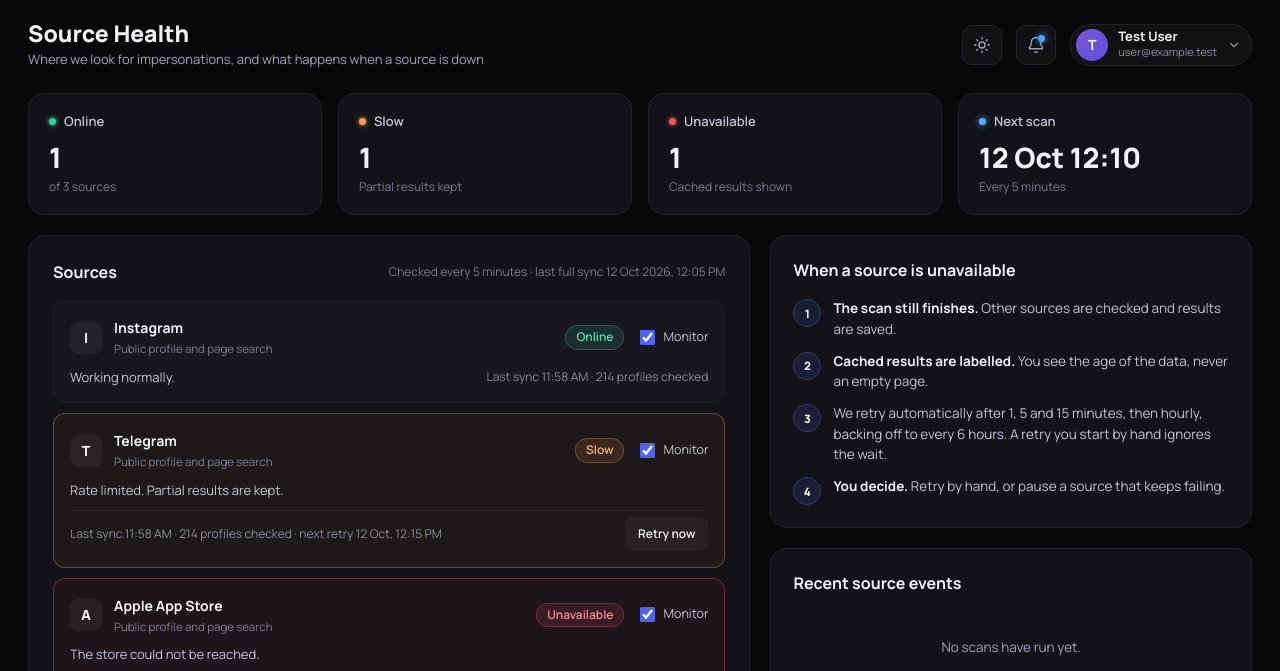
Test: SourceHealthPage › monitor toggle is optimistic and rolls back with the error when the server refuses
Click the checkbox named "Monitor Instagram".
click(648, 338)  # box [640,330,656,345]
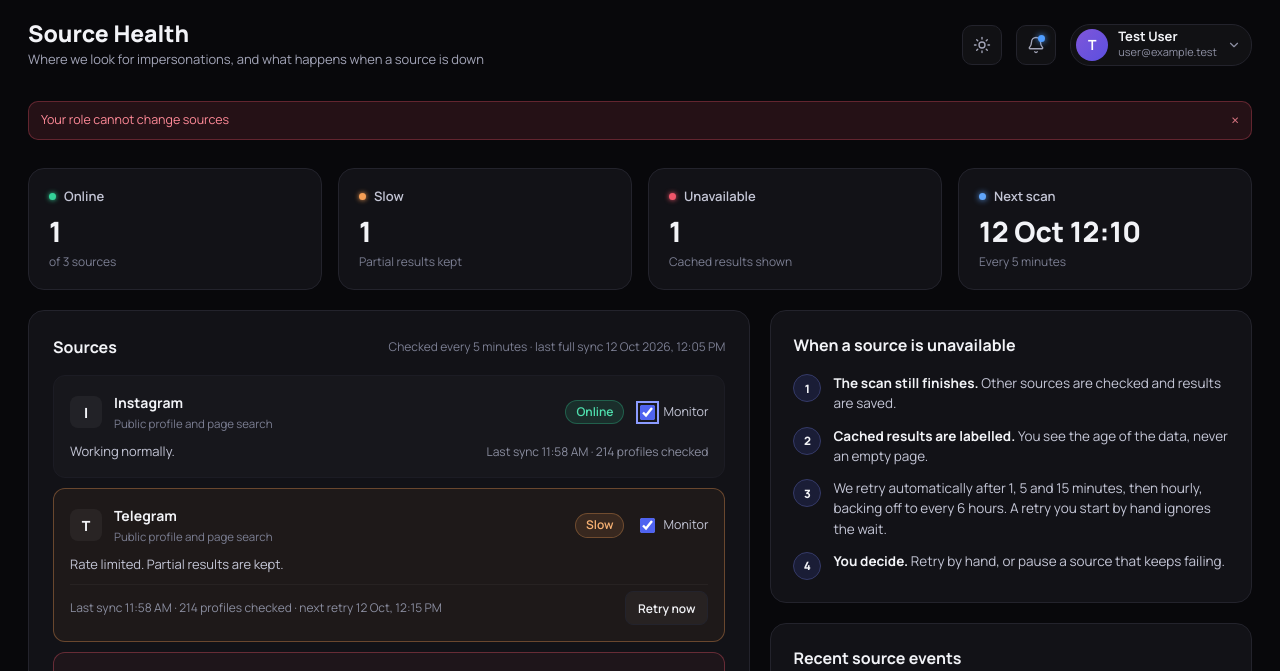
expect the checkbox named "Monitor Instagram" is checked: met, box [640,405,656,420]
expect the message shows "Your role cannot change sources": met, box [41,111,229,128]
